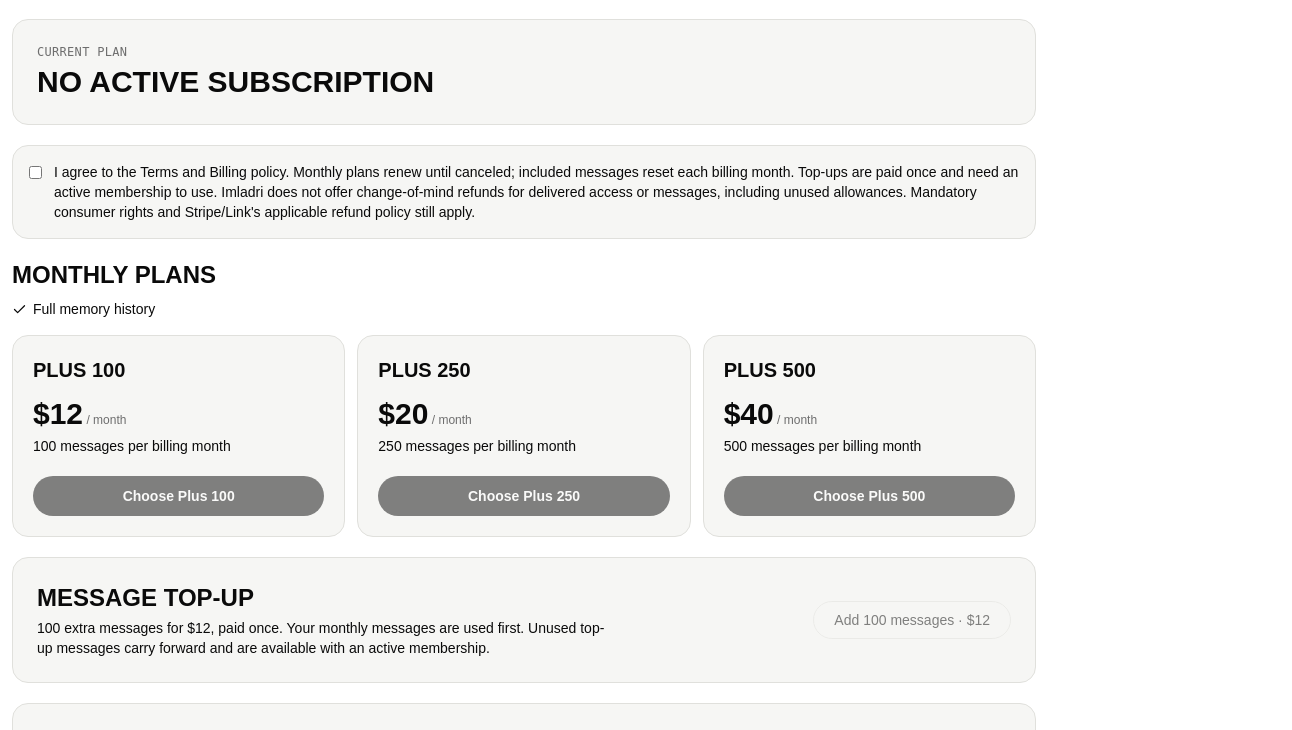
Scenario: canceling a future year requires explicit confirmation from the owning account
Click the checkbox with test id "purchase-policy-accept" at (36, 172), box [29, 166, 42, 179]
(page scrolled)
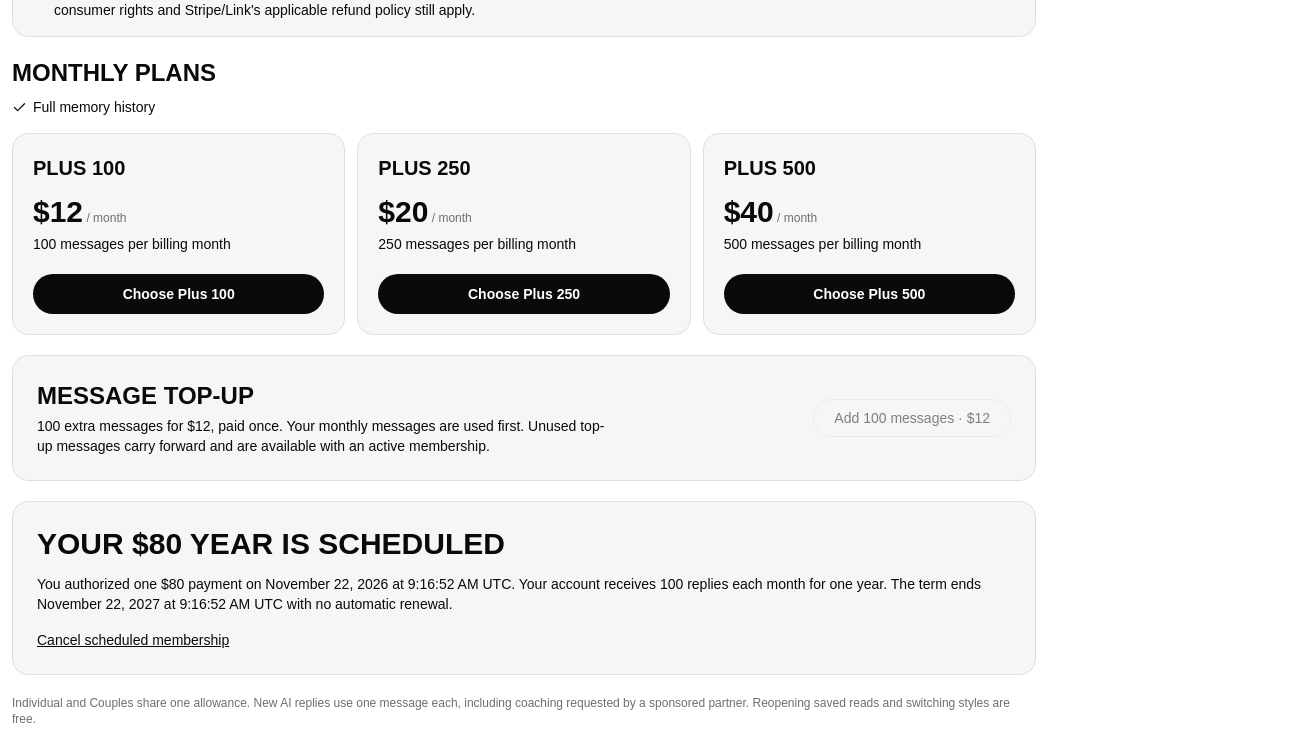
Click the button "Cancel scheduled membership" at (133, 640), box [37, 630, 229, 650]
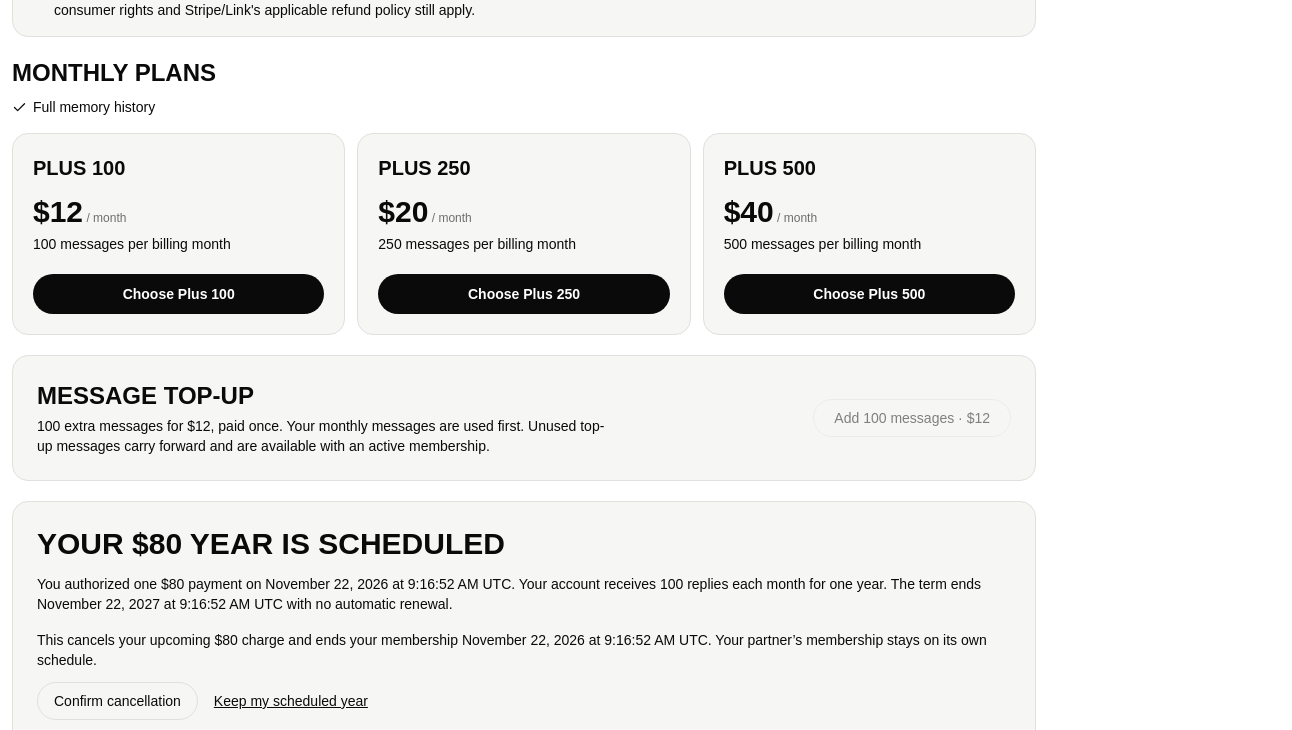
Expected: the text "ends your membership" is shown, [37, 632, 462, 648]
Click the button "Confirm cancellation" at (117, 701), box [37, 682, 198, 720]
(page scrolled)
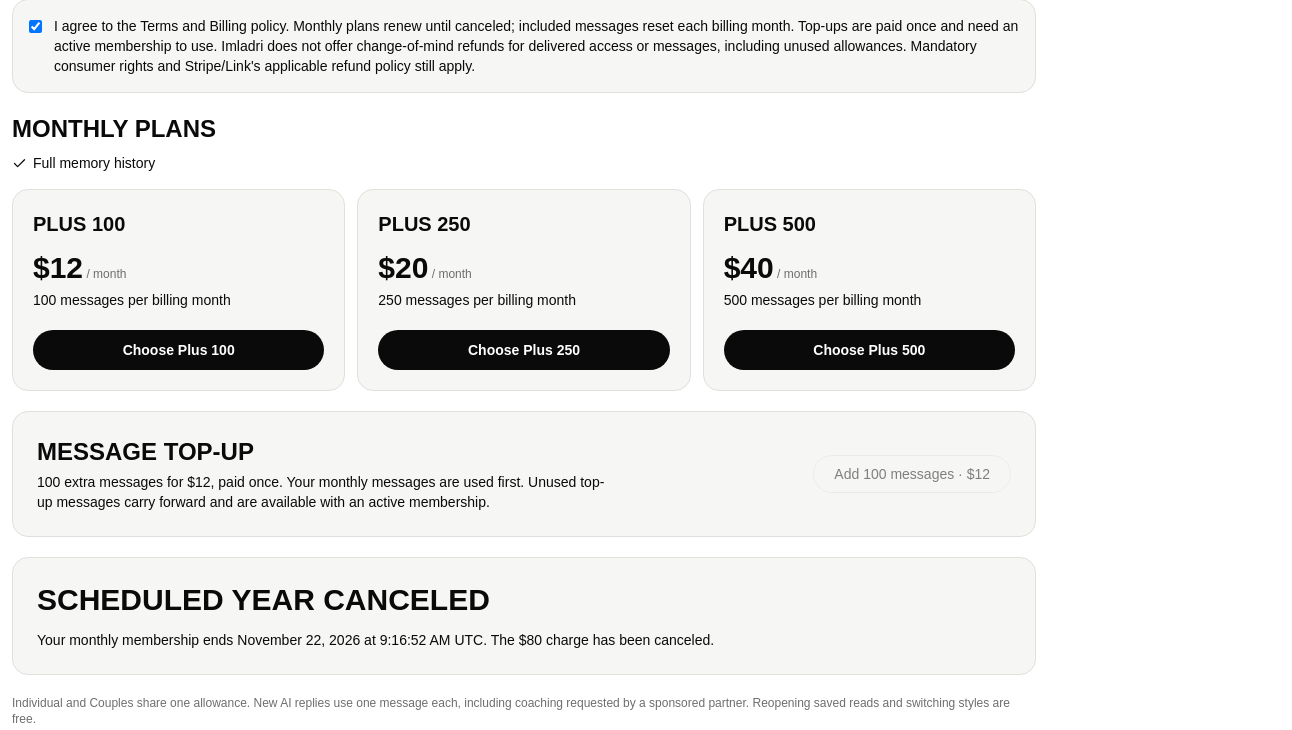
Expected: the text "Scheduled year canceled" is shown, [37, 583, 490, 616]
